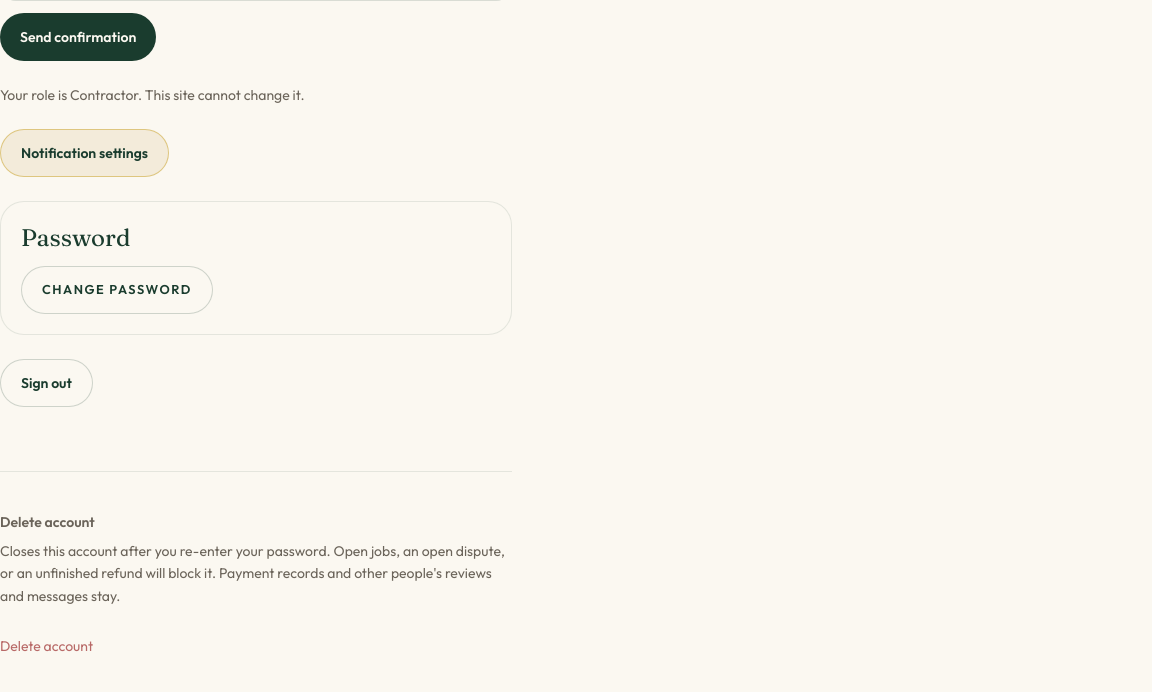
Delete account for each role at a phone width › opens a full-width sheet for CONTRACTOR without someone else's private details
(page scrolled)
Click the button "Delete account": (47, 646) [0,624,93,668]
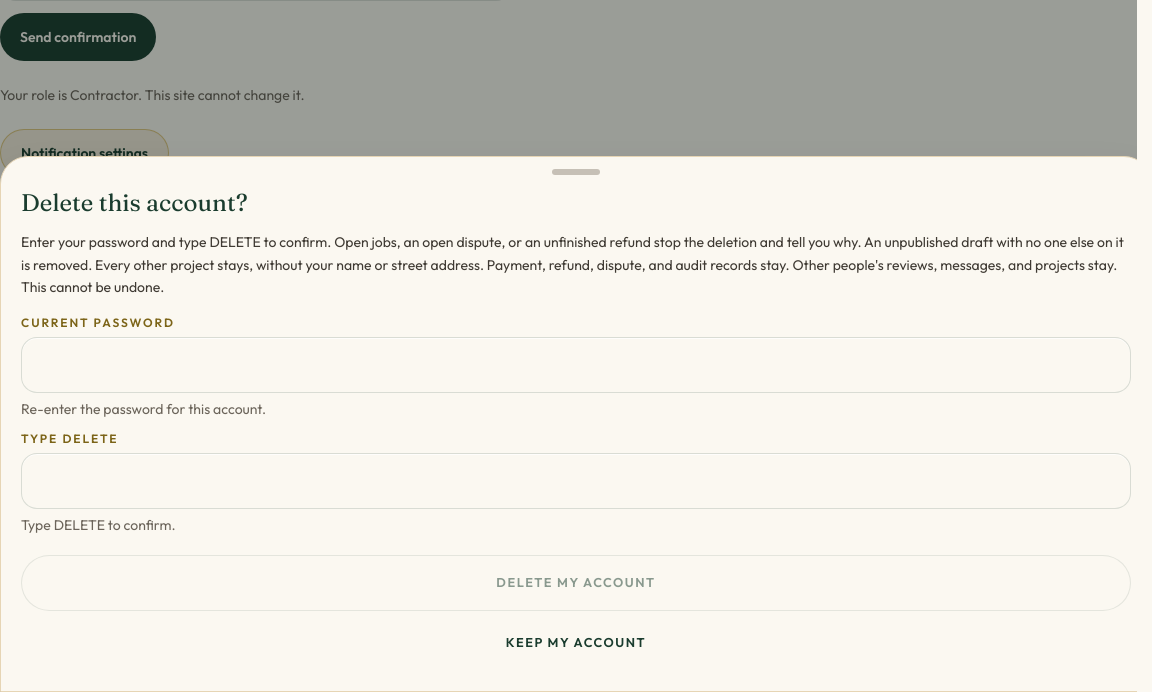
Check: the button "Delete my account" is disabled, box [21,555,1131,611]
